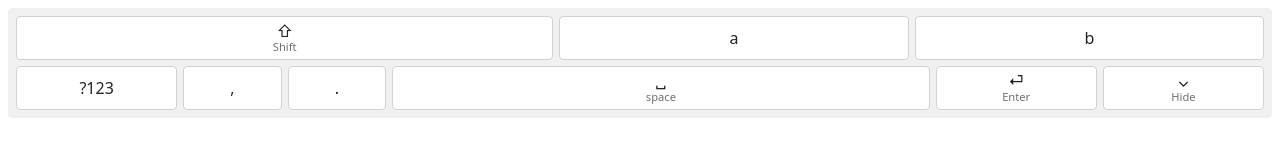
Scenario: Keyboard › shows another layer
The width and height of the screenshot is (1280, 160).
Click the button named "Numbers".
click(97, 88)  # box [16,66,177,110]
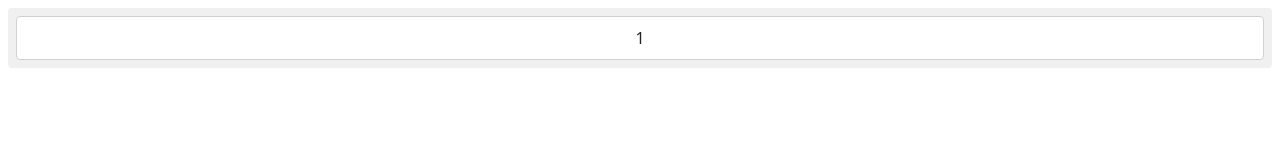
Expected: the button "1" is shown, [16,16,1264,60]
